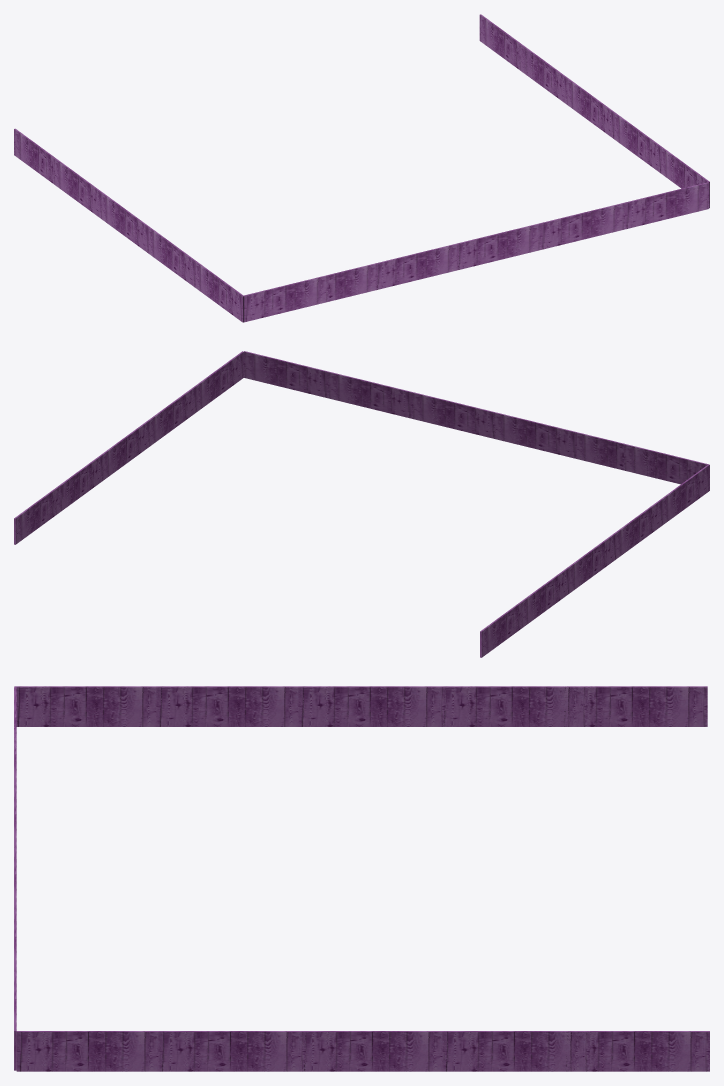
File: PurpleFence.obj
The picture shows the model from 3 angles, top to bottom: view 1: azimuth 30°, elevation 25°; view 2: azimuth 150°, elevation 25°; view 3: azimuth 270°, elevation 25°; orthographic projection. The views are drawn at different scales.
Visible parts, largest first — view 1: polySurface27; view 2: polySurface27; view 3: polySurface27.
Part boxes in pixels (left/top/right/bottom): polySurface27: left=14, top=14, right=709, bottom=322; polySurface27: left=14, top=351, right=709, bottom=657; polySurface27: left=14, top=686, right=709, bottom=1071.
Bounding box in the file's own units: 74.95 × 4 × 63.73.
1 material, 1 textured.
